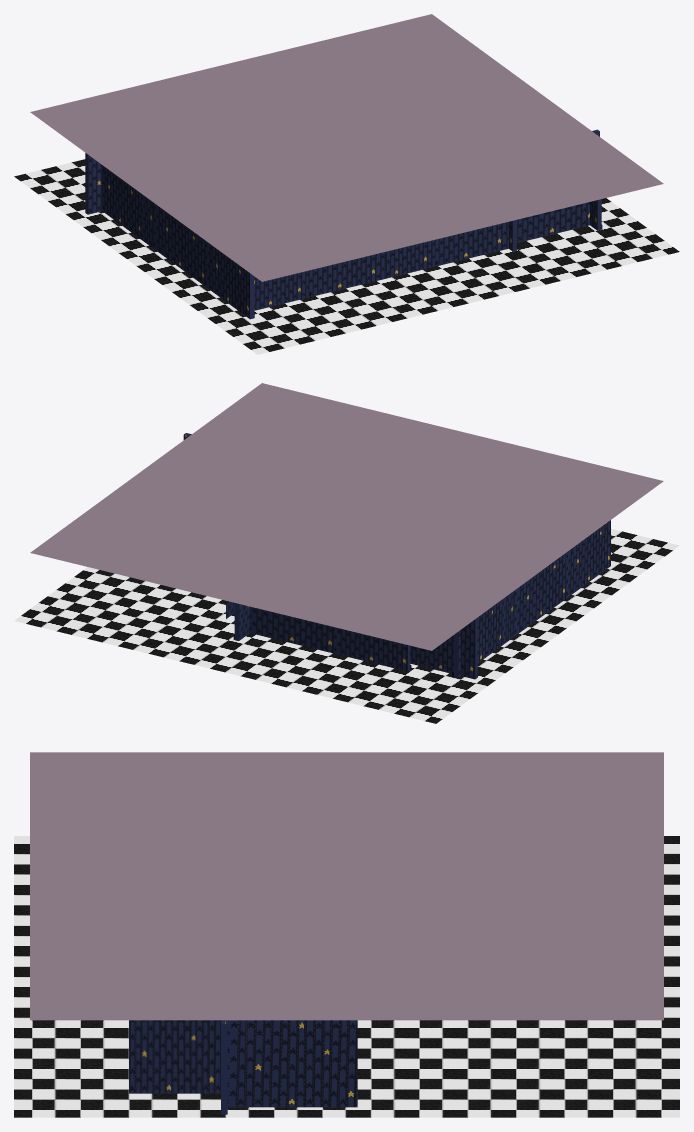
The model's file is Museo Text Fixed 4.glb.
The picture shows the model from 3 angles, top to bottom: view 1: azimuth 30°, elevation 25°; view 2: azimuth 150°, elevation 25°; view 3: azimuth 270°, elevation 25°; orthographic projection. The views are drawn at different scales.
Parts seen in each view (by area): view 1: Roof, Floor, Walls; view 2: Roof, Floor, Walls; view 3: Roof, Floor, Walls.
Boxes of the visible parts, x1,y1,x2,y2 form: Roof: [30, 14, 663, 281]; Floor: [14, 159, 679, 354]; Walls: [85, 129, 602, 319]; Roof: [30, 383, 663, 650]; Floor: [14, 528, 679, 723]; Walls: [183, 433, 610, 679]; Roof: [30, 752, 663, 1020]; Floor: [14, 836, 679, 1117]; Walls: [129, 1020, 357, 1114].
Size of the model in its own units: 78.87 by 11.92 by 78.87.
Materials: 6 (3 with a texture image).
